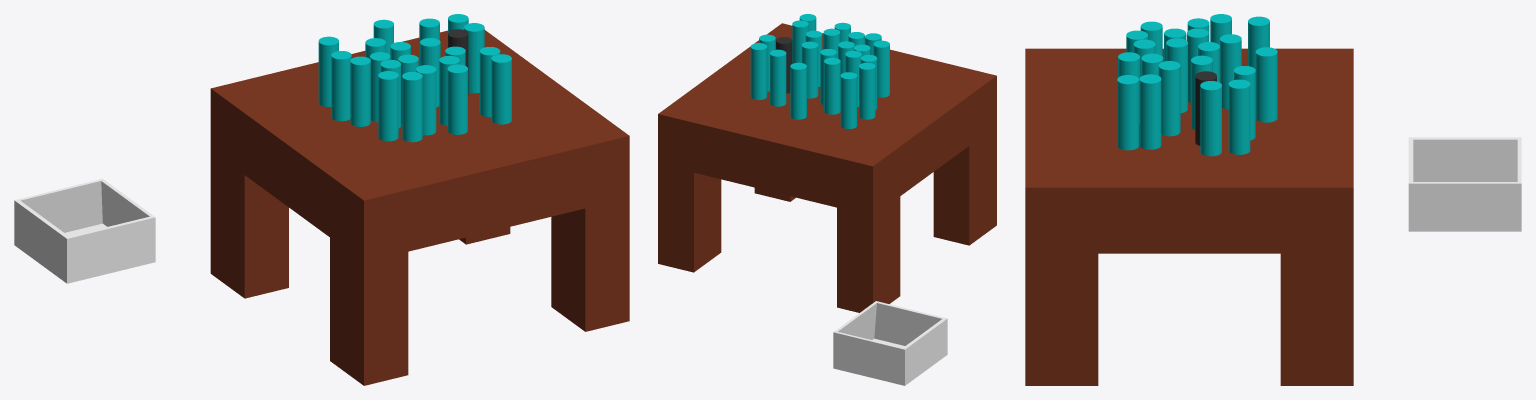
Rendered from can_world_22_cans.dae.
3 views of the same model, side by side, from view 1: azimuth 30°, elevation 25°; view 2: azimuth 150°, elevation 25°; view 3: azimuth 270°, elevation 25° (orthographic). The views are drawn at different scales.
Parts seen in each view (by area): view 1: base (×17), SketchUp (×2); view 2: base (×20), SketchUp (×2); view 3: base (×20), SketchUp (×2).
Boxes of the visible parts, bbox=[...] form: base (×17): bbox=[210, 23, 629, 385]; SketchUp (×2): bbox=[14, 179, 155, 283]; base (×20): bbox=[658, 20, 996, 312]; SketchUp (×2): bbox=[833, 301, 947, 385]; base (×20): bbox=[1025, 14, 1353, 385]; SketchUp (×2): bbox=[1408, 137, 1521, 231].
Bounding box in the file's own units: 1.3 × 1.36 × 0.8.
